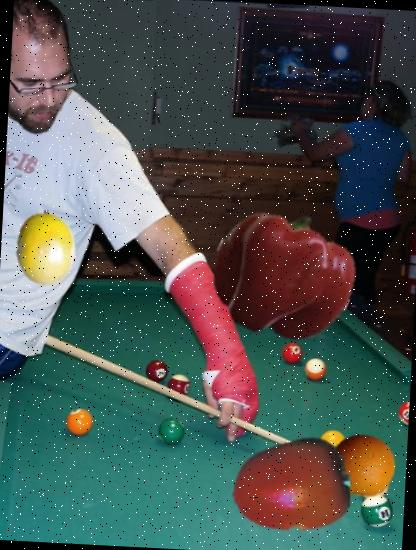Kaki: (228, 420, 354, 546)
Maracuja: (6, 209, 86, 288)
Orange: (328, 431, 397, 500)
Pepper: (208, 200, 358, 350)
